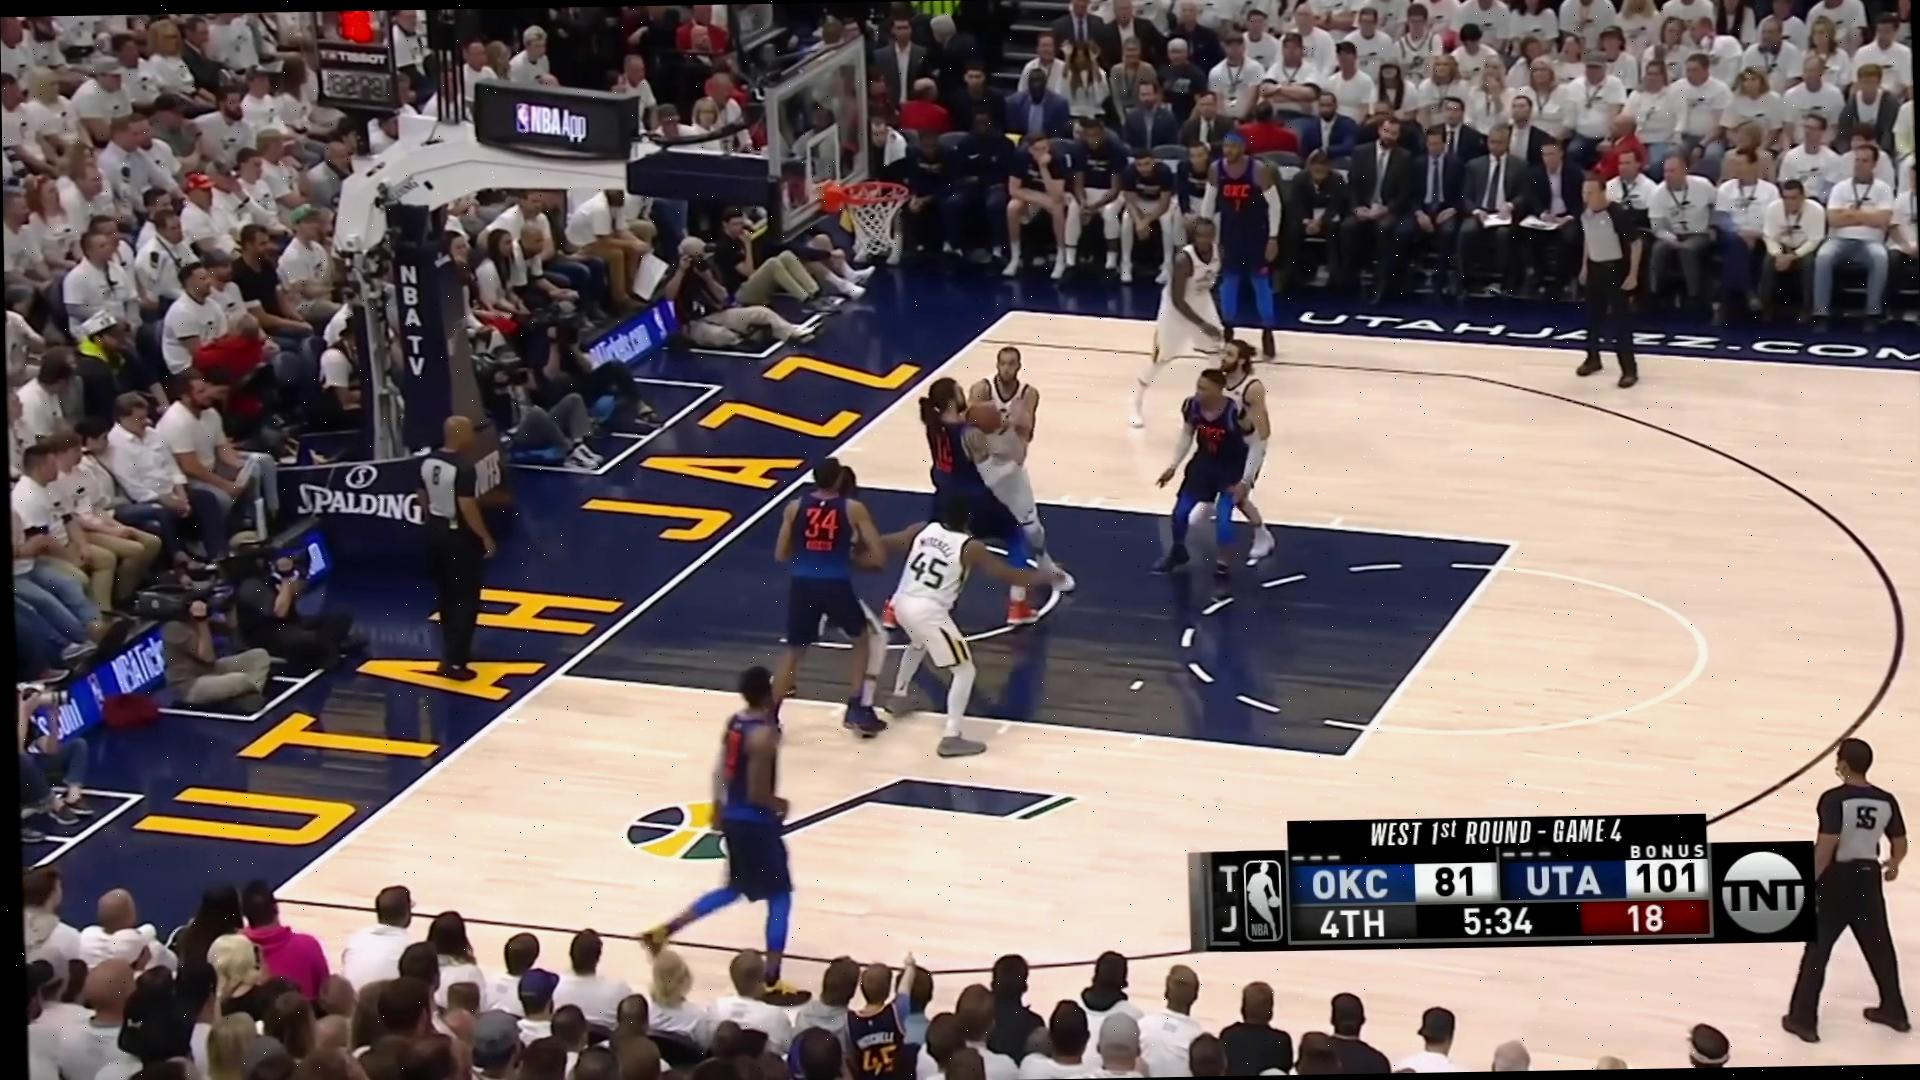foul: (889, 330, 1112, 611)
